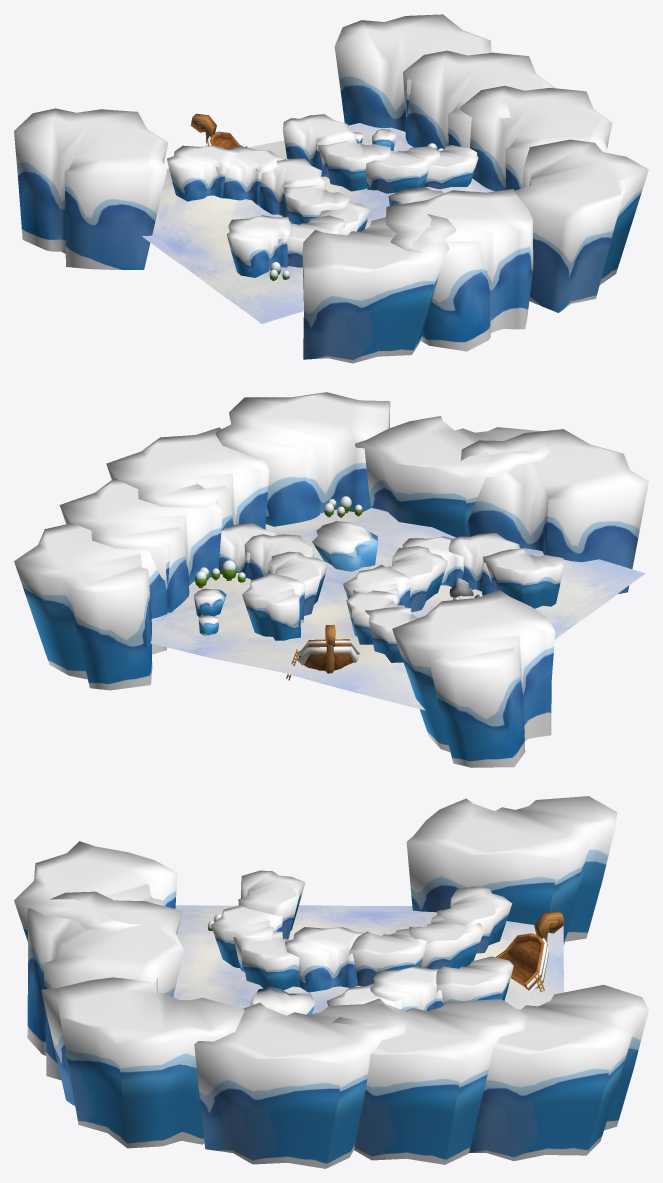
Rendered from IceBigMap6.FBX.
3 views of the same model, one above another, from view 1: azimuth 30°, elevation 25°; view 2: azimuth 150°, elevation 25°; view 3: azimuth 270°, elevation 25° (orthographic). The views are drawn at different scales.
Parts seen in each view (by area): view 1: Iceberg024, Iceberg019, Iceberg018, Iceberg017, tereno1, Iceberg014, Iceberg016, Iceberg015, Iceberg030, Iceberg028, Iceberg021, Iceberg023 (+9 smaller); view 2: Iceberg024, tereno1, Iceberg014, Iceberg019, Iceberg017, Iceberg018, Iceberg015, Iceberg016, Iceberg030, Iceberg023, Iceberg036, Iceberg026 (+10 smaller); view 3: Iceberg016, Iceberg017, Iceberg014, Iceberg024, Iceberg015, Iceberg018, tereno1, Iceberg019, Iceberg026, Iceberg025, Iceberg023, Iceberg029 (+8 smaller).
Boxes of the visible parts, x1=… form: Iceberg024: x1=14, y1=108, x2=168, y2=269; Iceberg019: x1=302, y1=214, x2=456, y2=363; Iceberg018: x1=385, y1=189, x2=533, y2=351; Iceberg017: x1=515, y1=139, x2=648, y2=312; tereno1: x1=142, y1=123, x2=494, y2=323; Iceberg014: x1=334, y1=14, x2=491, y2=141; Iceberg016: x1=460, y1=86, x2=612, y2=191; Iceberg015: x1=403, y1=50, x2=554, y2=149; Iceberg030: x1=226, y1=215, x2=290, y2=277; Iceberg028: x1=167, y1=145, x2=239, y2=201; Iceberg021: x1=365, y1=146, x2=439, y2=193; Iceberg023: x1=282, y1=114, x2=356, y2=176; Iceberg024: x1=392, y1=589, x2=555, y2=767; tereno1: x1=150, y1=508, x2=645, y2=710; Iceberg014: x1=14, y1=523, x2=170, y2=690; Iceberg019: x1=460, y1=429, x2=648, y2=594; Iceberg017: x1=215, y1=392, x2=390, y2=526; Iceberg018: x1=355, y1=416, x2=552, y2=537; Iceberg015: x1=59, y1=478, x2=222, y2=612; Iceberg016: x1=106, y1=427, x2=269, y2=530; Iceberg030: x1=483, y1=548, x2=563, y2=608; Iceberg023: x1=242, y1=572, x2=305, y2=640; Iceberg036: x1=312, y1=521, x2=377, y2=571; Iceberg026: x1=387, y1=546, x2=447, y2=611; Iceberg016: x1=194, y1=1002, x2=407, y2=1168; Iceberg017: x1=41, y1=977, x2=244, y2=1148; Iceberg014: x1=469, y1=984, x2=648, y2=1160; Iceberg024: x1=406, y1=796, x2=617, y2=944; Iceberg015: x1=332, y1=998, x2=527, y2=1164; Iceberg018: x1=27, y1=891, x2=184, y2=1080; tereno1: x1=173, y1=905, x2=563, y2=1013; Iceberg019: x1=14, y1=841, x2=177, y2=941; Iceberg026: x1=285, y1=927, x2=364, y2=992; Iceberg025: x1=349, y1=927, x2=427, y2=986; Iceberg023: x1=436, y1=956, x2=513, y2=1005; Iceberg029: x1=233, y1=931, x2=306, y2=990.
Bounding box in the file's own units: 749 × 153 × 738.
